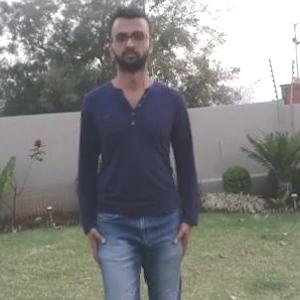follow: (76, 12, 202, 299)
